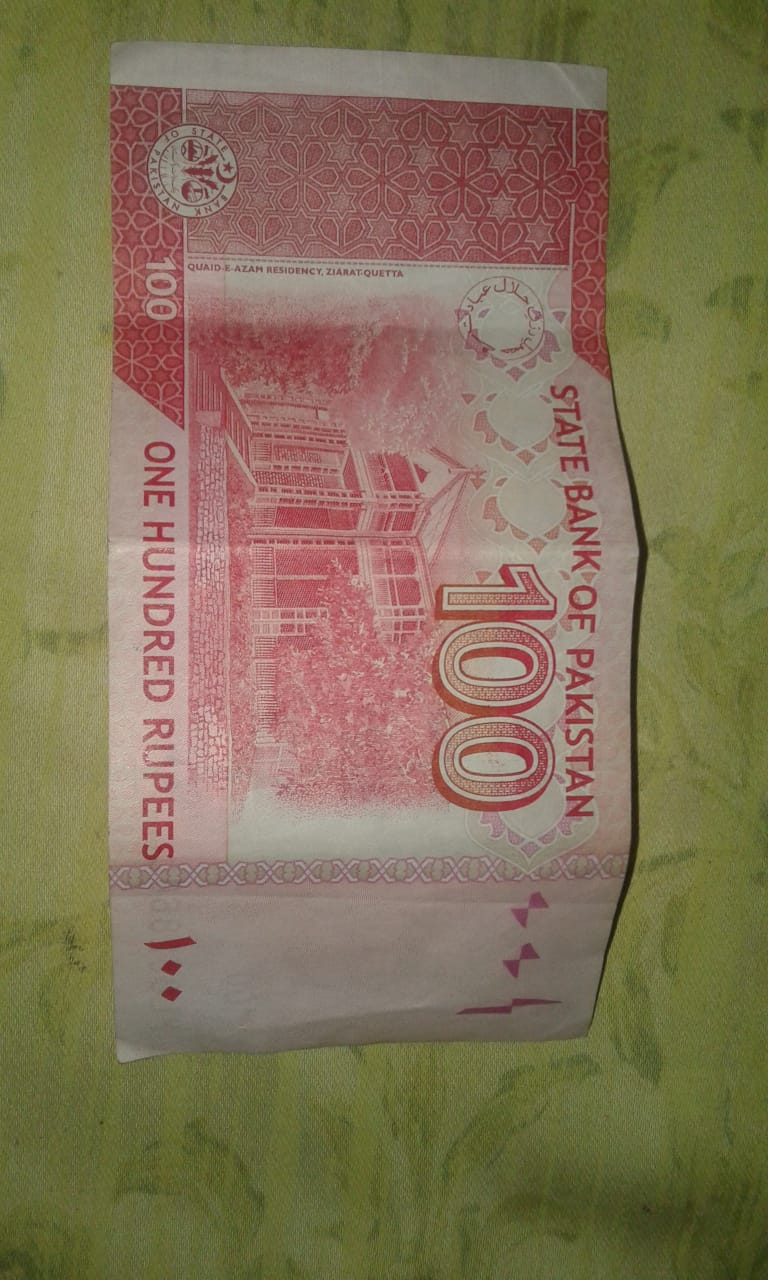100 rupee: (109, 46, 632, 1057)
